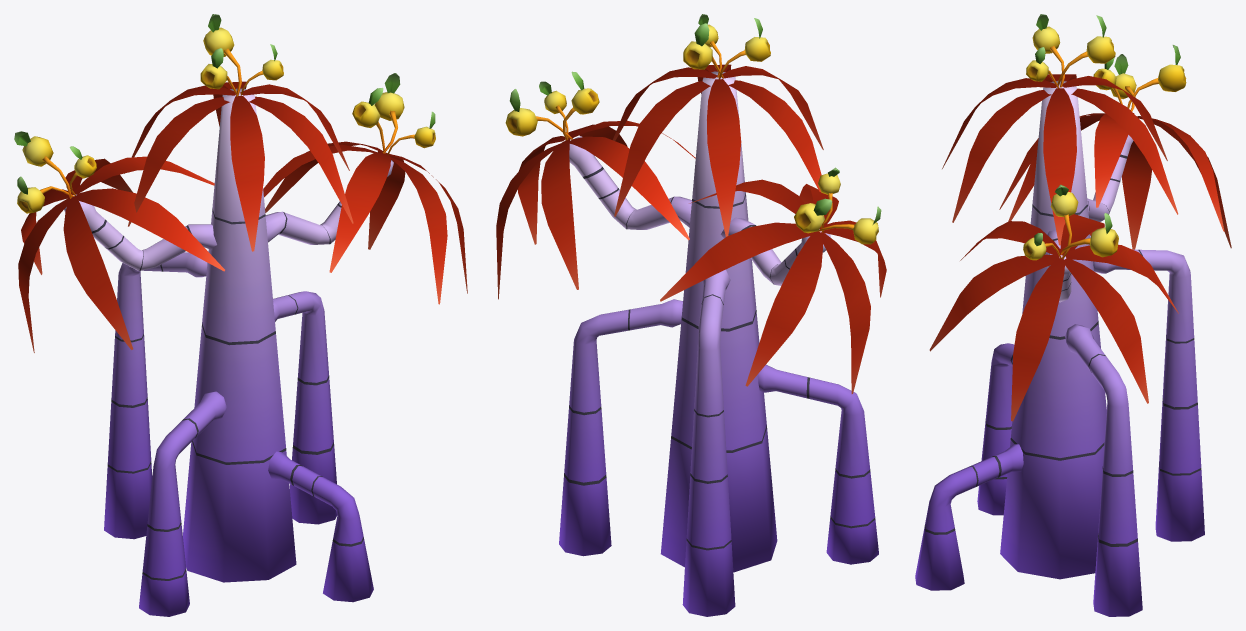
File: wp_noPot_22.fbx
The picture shows the model from 3 angles, left to right: view 1: azimuth 30°, elevation 25°; view 2: azimuth 150°, elevation 25°; view 3: azimuth 270°, elevation 25°; orthographic projection.
Visible parts, largest first — view 1: w_pl22.003; view 2: w_pl22.003; view 3: w_pl22.003.
Boxes of the visible parts, left/top/right/bottom form: w_pl22.003: left=14, top=14, right=467, bottom=616; w_pl22.003: left=496, top=14, right=886, bottom=616; w_pl22.003: left=915, top=14, right=1231, bottom=616.
Bounding box in the file's own units: 114 × 146 × 78.13.
